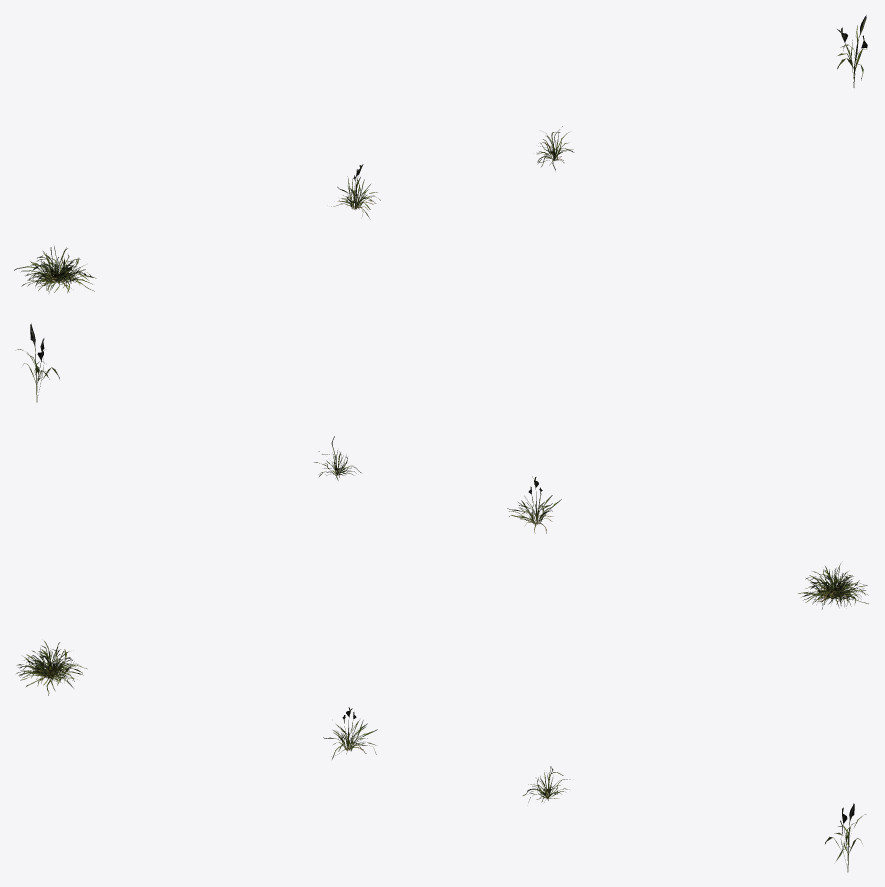
The model's file is grass_tuft.glb.
The picture shows the model from 3 angles, top to bottom: view 1: azimuth 30°, elevation 25°; view 2: azimuth 150°, elevation 25°; view 3: azimuth 330°, elevation 25°; orthographic projection.
Parts seen in each view (by area): view 1: grass_medium_01_large_b_LOD0, grass_medium_01_mid_b_LOD0, grass_medium_01_tall_b_LOD0; view 2: grass_medium_01_large_b_LOD0, grass_medium_01_mid_b_LOD0; view 3: grass_medium_01_large_b_LOD0, grass_medium_01_mid_b_LOD0, grass_medium_01_tall_b_LOD0, grass_medium_01_small_a_LOD0.
Part boxes in pixels (x1,y1,x2,y2): grass_medium_01_large_b_LOD0: (14,246,96,293); grass_medium_01_mid_b_LOD0: (331,164,380,219); grass_medium_01_tall_b_LOD0: (837,15,867,87); grass_medium_01_large_b_LOD0: (798,563,868,609); grass_medium_01_mid_b_LOD0: (507,476,561,533); grass_medium_01_large_b_LOD0: (16,641,86,695); grass_medium_01_mid_b_LOD0: (323,707,377,759); grass_medium_01_tall_b_LOD0: (825,803,866,872); grass_medium_01_small_a_LOD0: (523,766,570,802).
Size of the model in its own units: 3.4 by 0.3094 by 0.2618.
Materials: 1 (1 with a texture image).
